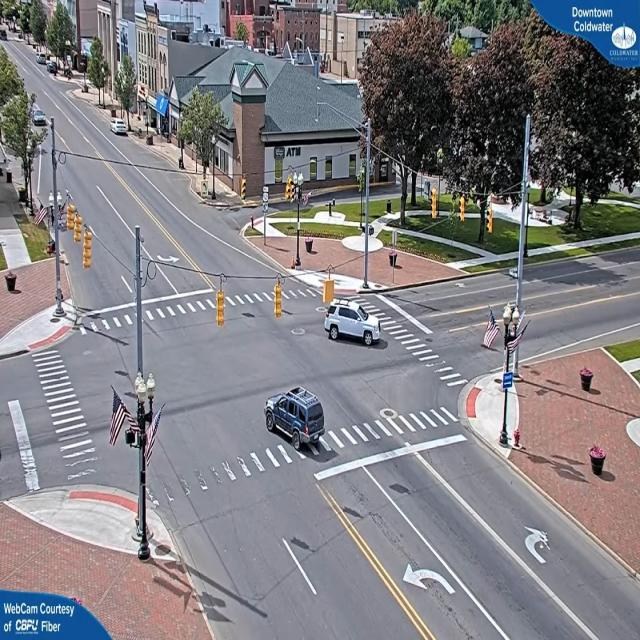car: (265, 385, 328, 451), (325, 300, 385, 346), (112, 121, 130, 138)
